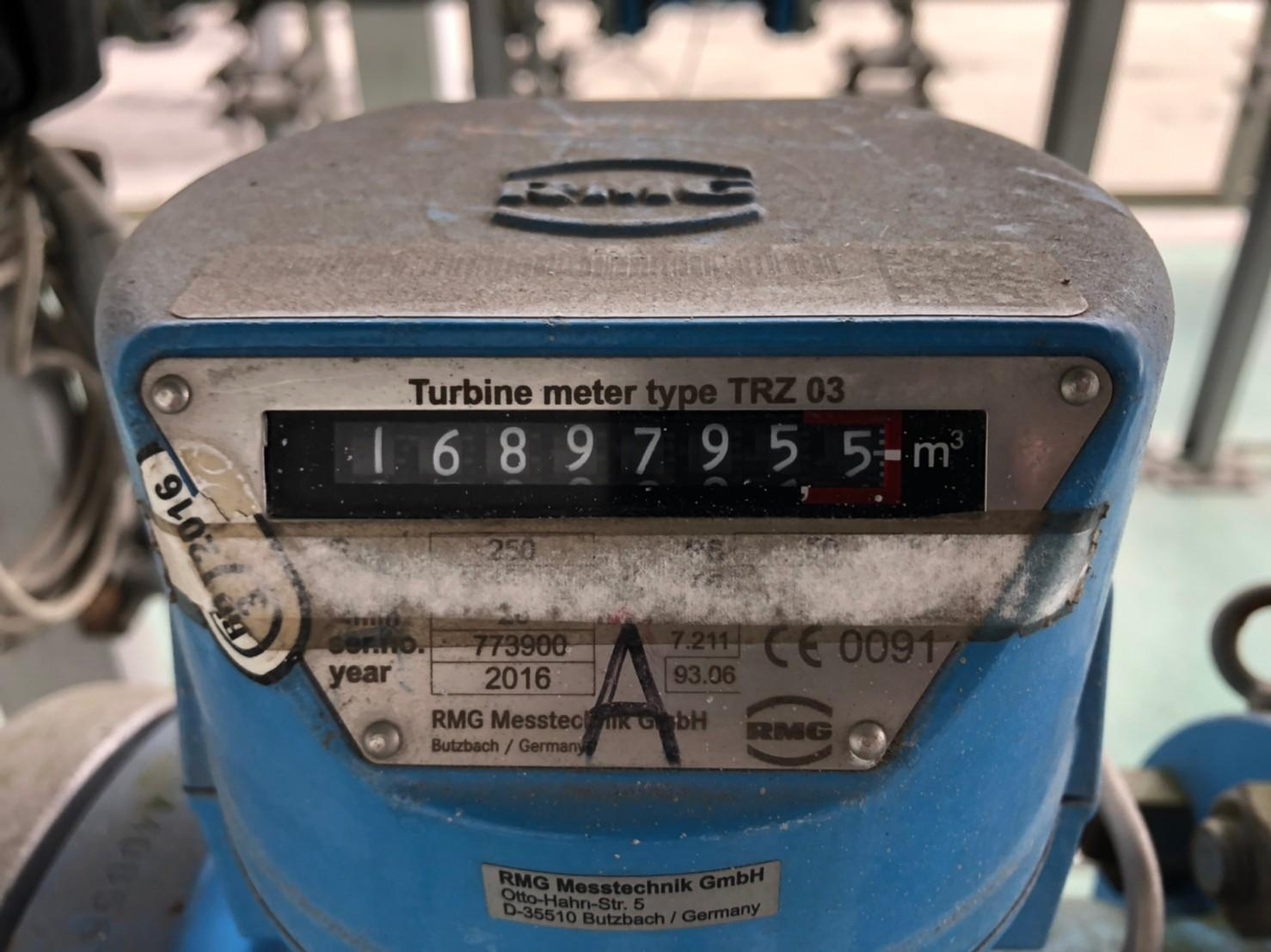analog_dial: (264, 411, 987, 519)
